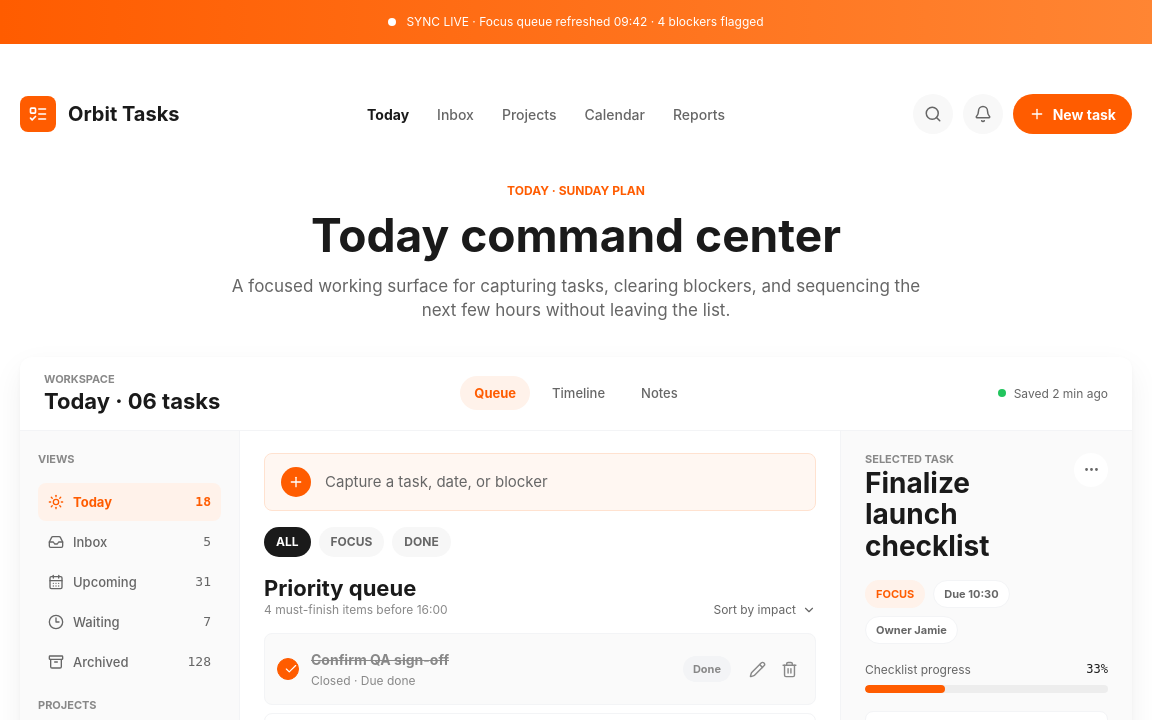
Test case: App › filters focus and done tasks
Click the tab "Done": (422, 542) [392,527,451,557]
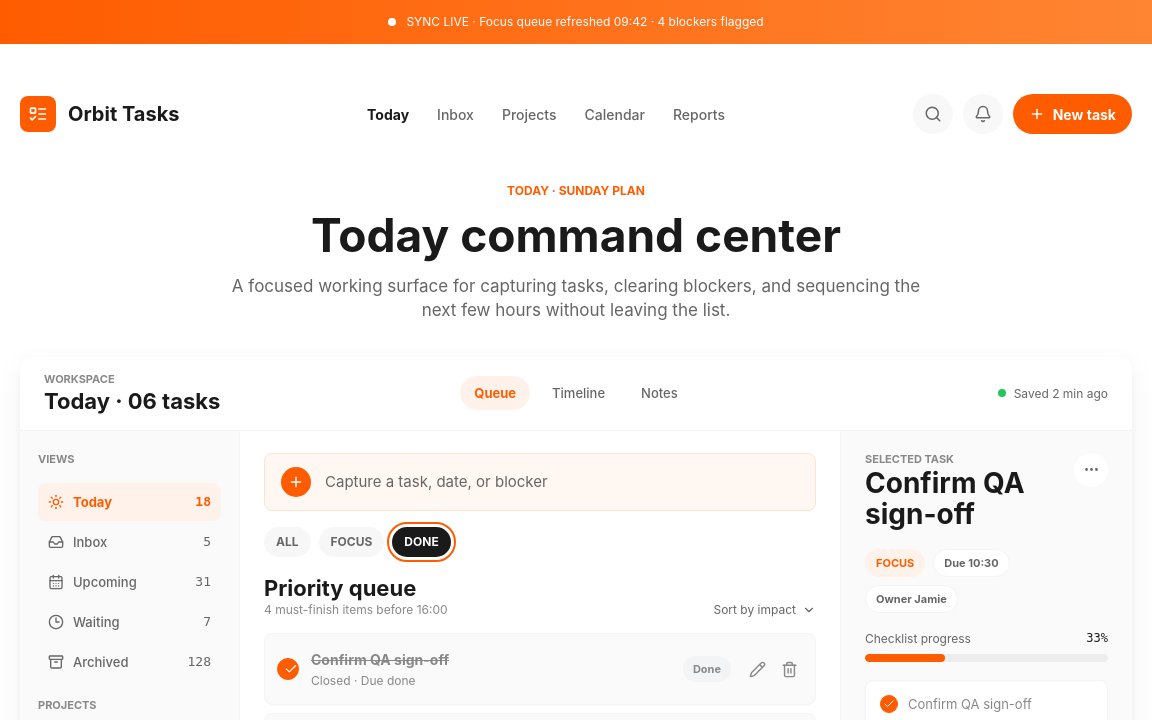
Expected: the heading "Confirm QA sign-off" below "must-finish items before 16:00" is shown, [311,651,449,668]
Expected: the text "Finalize launch checklist" is not shown
Click the tab "Focus": (351, 542) [318,527,384,557]
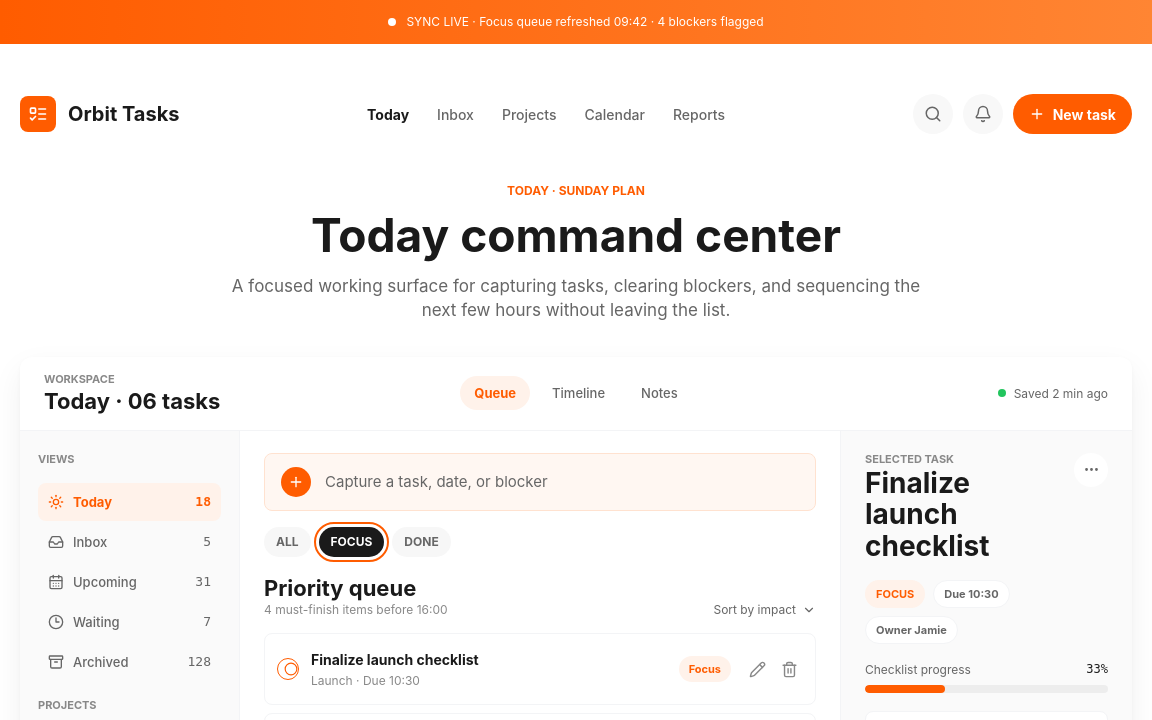
Expected: the text "Confirm QA sign-off" is not shown
Expected: the heading "Finalize launch checklist" below "must-finish items before 16:00" is shown, [311,651,479,668]
